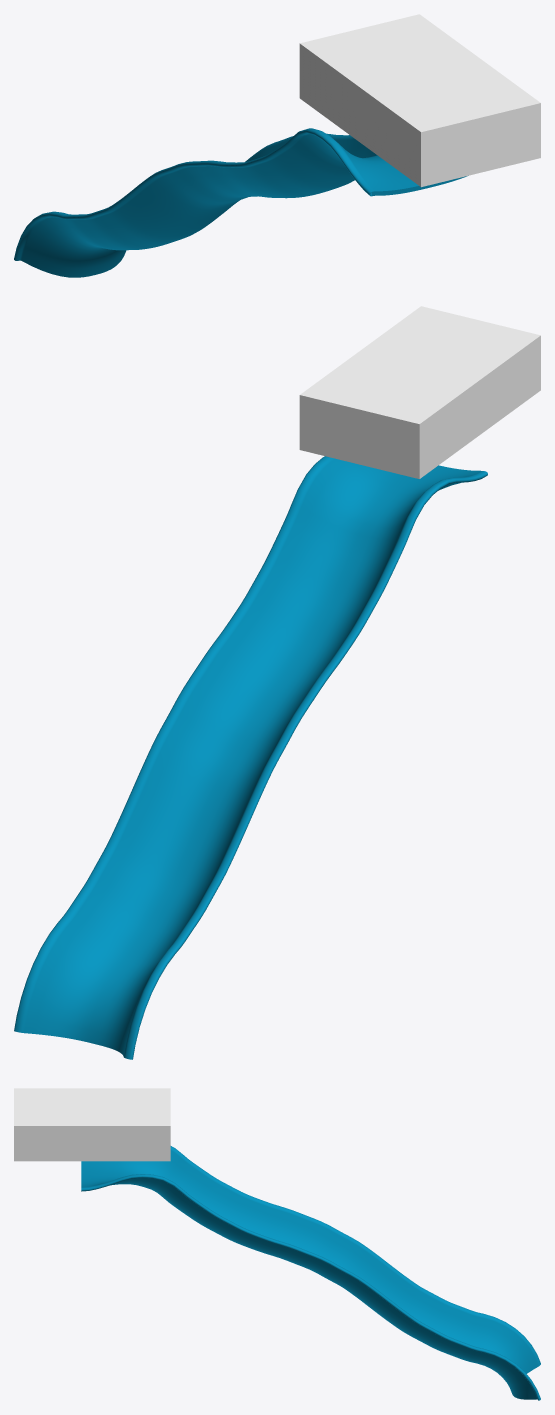
The picture shows the model from 3 angles, top to bottom: view 1: azimuth 30°, elevation 25°; view 2: azimuth 150°, elevation 25°; view 3: azimuth 270°, elevation 25°; orthographic projection. The views are drawn at different scales.
Visible parts, largest first — view 1: joint,0,6, Plane034,_colorize_; view 2: Plane034,_colorize_, joint,0,6; view 3: Plane034,_colorize_, joint,0,6.
Part boxes in pixels (x1,y1,x2,y2): joint,0,6: [299, 14, 540, 187]; Plane034,_colorize_: [14, 128, 468, 277]; Plane034,_colorize_: [14, 456, 487, 1059]; joint,0,6: [299, 306, 540, 478]; Plane034,_colorize_: [81, 1146, 540, 1400]; joint,0,6: [14, 1088, 170, 1161].
Bounding box in the file's own units: 0.57 × 2 × 3.37.
